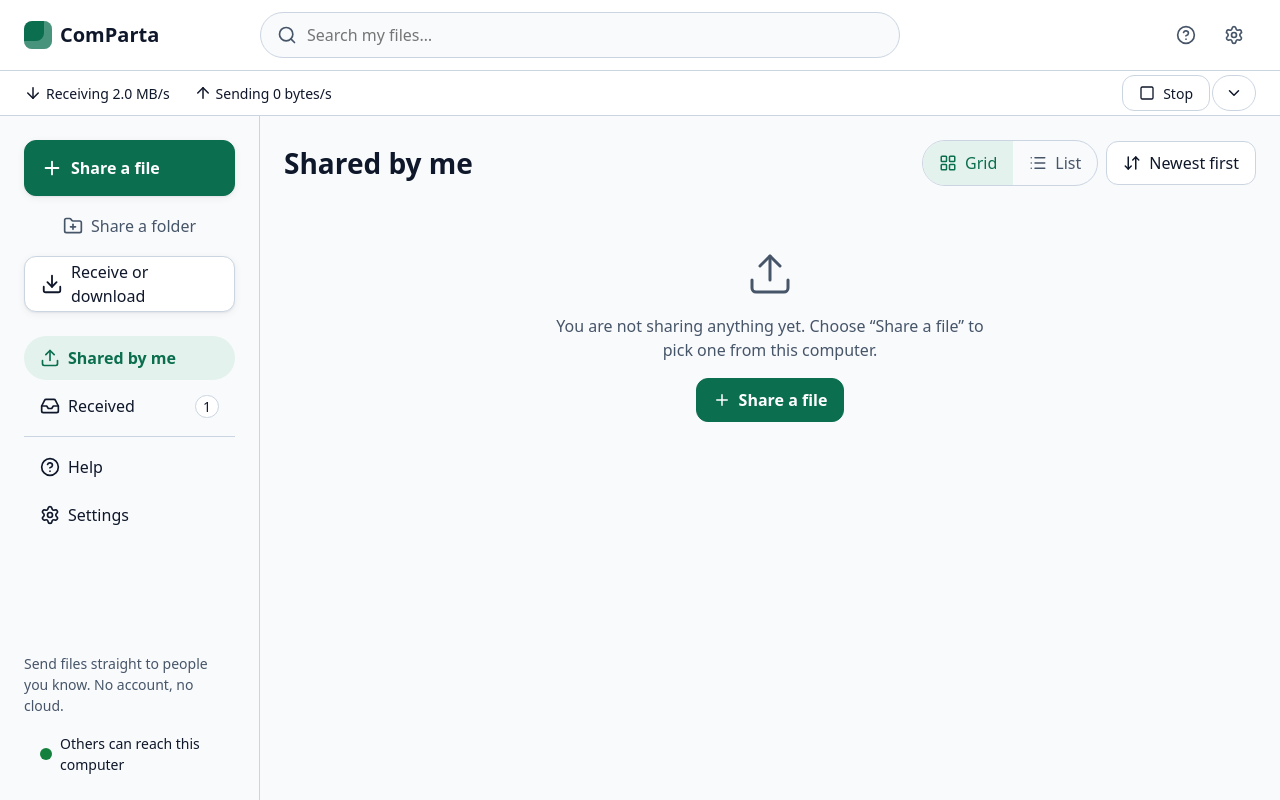
the Stop button › changes at once, even while the app is still stopping files
Click the button "Stop" at (1166, 93), box [1122,75,1210,111]
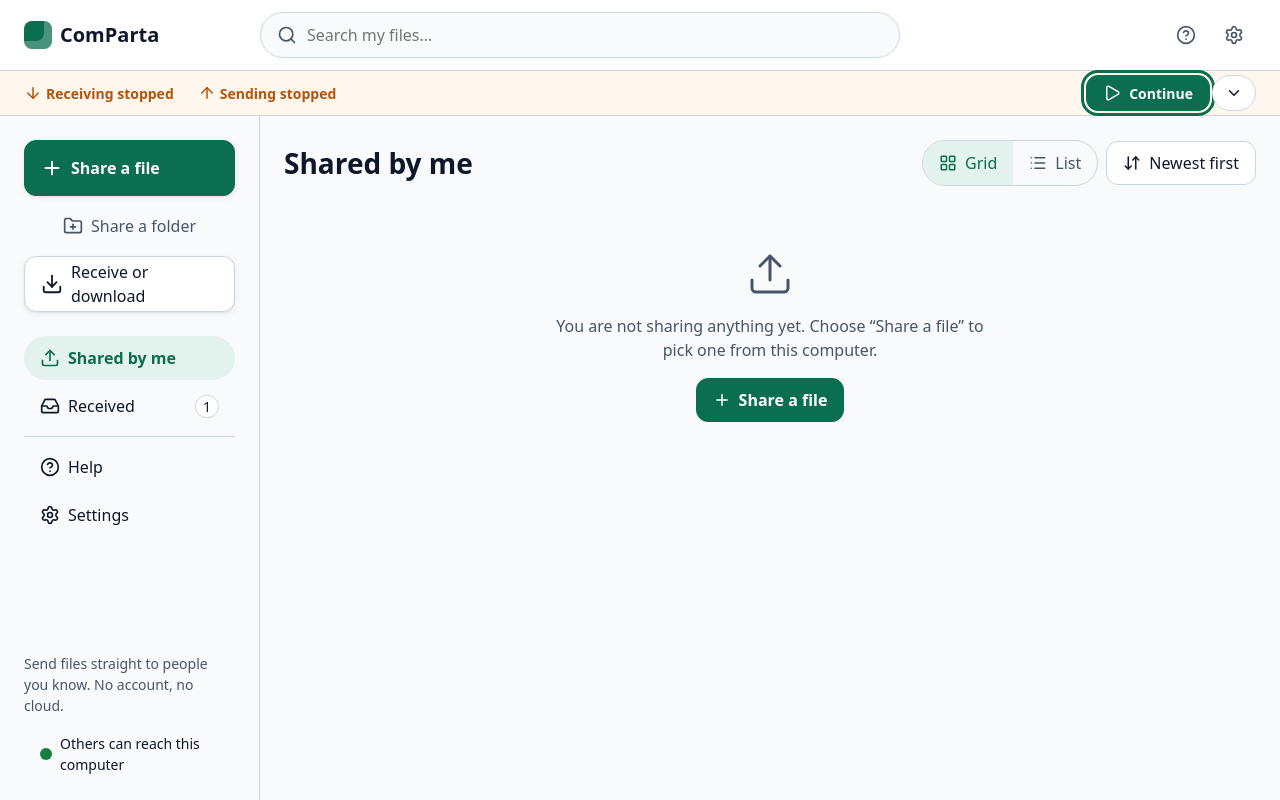
Now the text "Receiving stopped" is shown, box [46,82,174,104]
Now the button "Continue" is shown, box [1086,75,1210,111]
